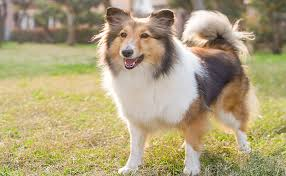dog: (98, 1, 260, 174)
